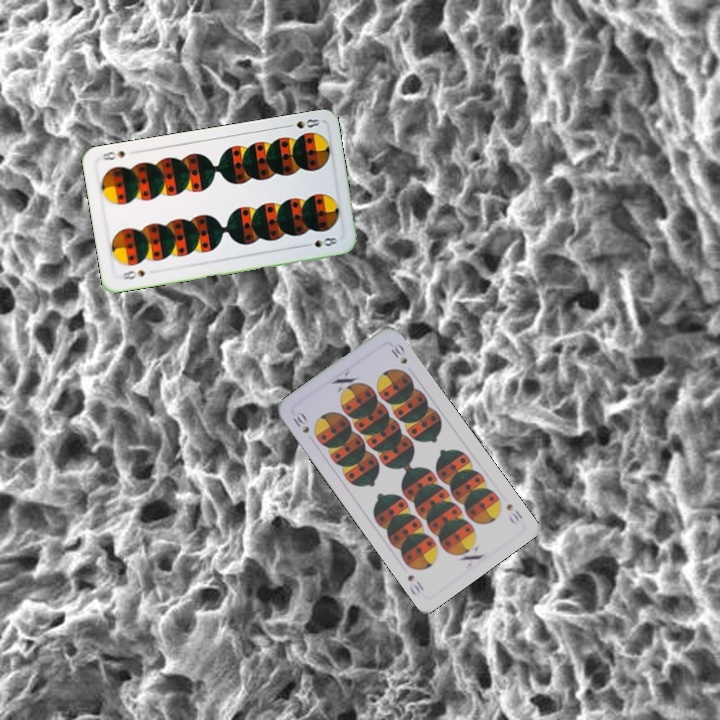S10: (289, 408, 312, 436), (502, 499, 525, 527)
S8: (282, 115, 322, 131), (117, 266, 147, 282)
